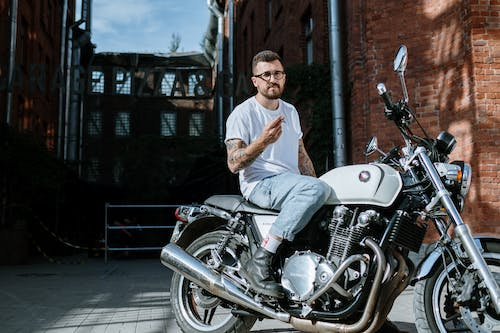cigarette: (280, 119, 288, 123)
